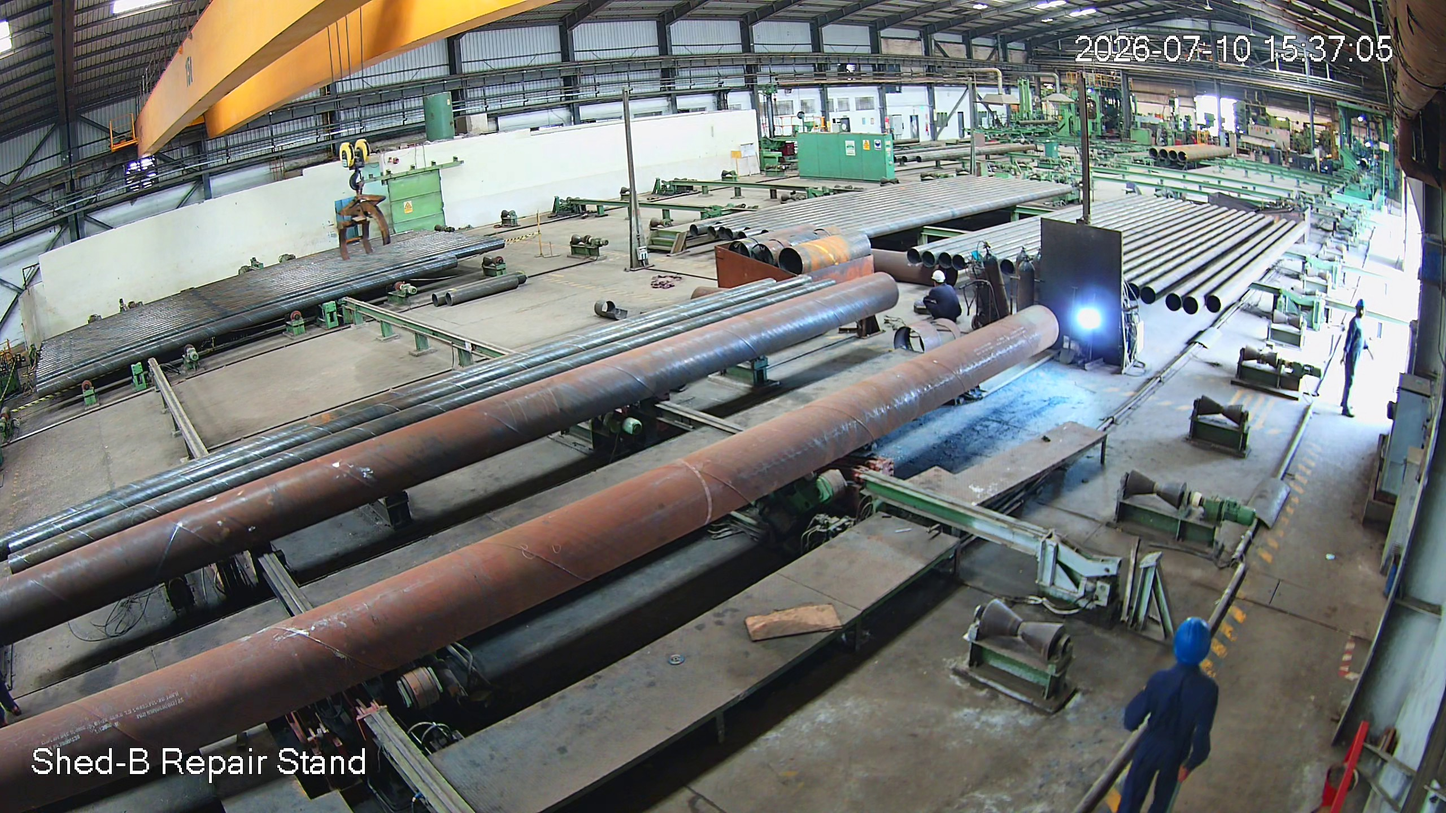Helmet: (1163, 604, 1218, 702), (1347, 285, 1377, 323), (927, 265, 951, 298)
Person: (1109, 614, 1243, 813), (1345, 295, 1375, 425), (916, 270, 967, 325)
